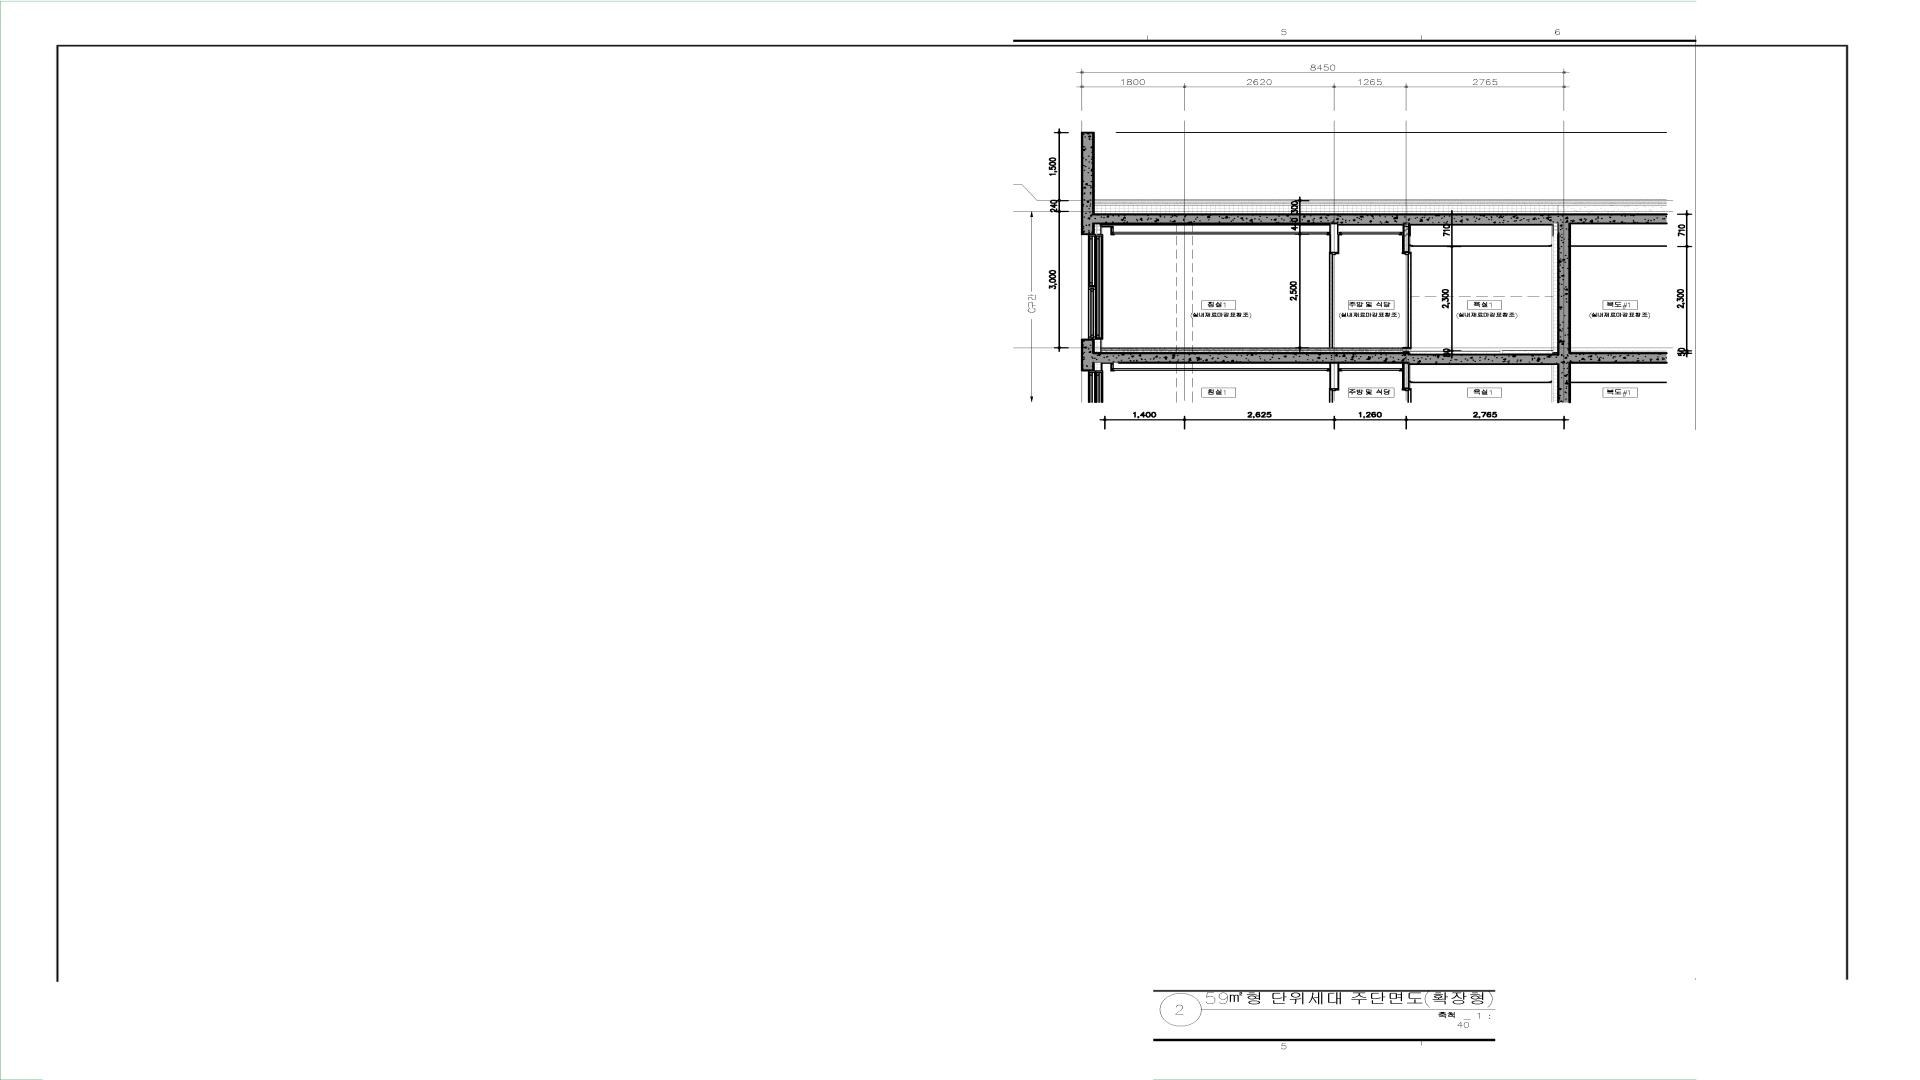door: (1402, 251, 1412, 349), (1329, 252, 1340, 347)
wall: (1081, 132, 1571, 372), (1329, 224, 1338, 252), (1403, 224, 1410, 252)
window: (1081, 235, 1104, 339)
